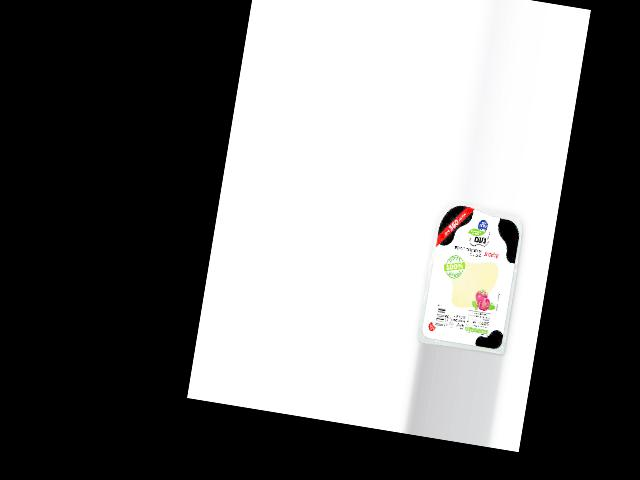cheese: (416, 197, 527, 355)
